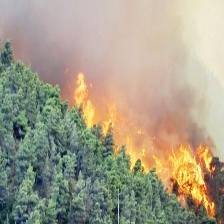fire: (73, 80, 224, 218)
smoke: (1, 1, 221, 123)
